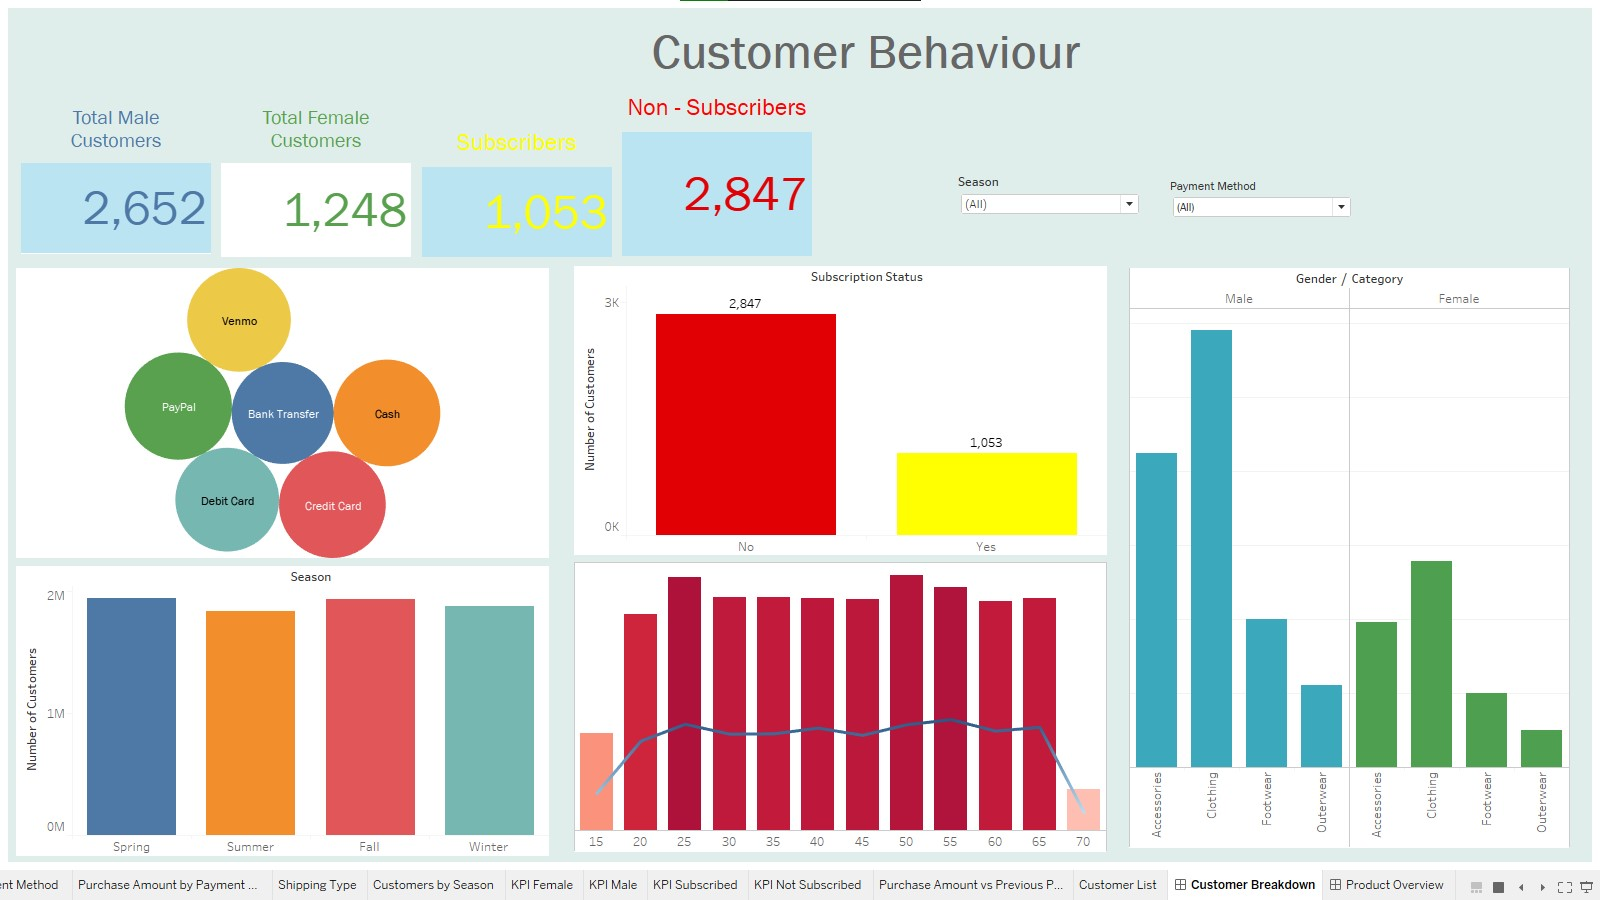

Layout of this report page (visuals, bound fields, positions):
{"tool":"tableau","page":{"name":"Customer Breakdown","canvas":[1000,1000],"units":"permille","ordinal":0},"visuals":[{"type":"text","box":[324,11.1,434.9,95.3]},{"type":"worksheet","title":"KPI Not Subscribed","mark":"Automatic","box":[388.8,102.2,118.8,192]},{"type":"worksheet","title":"KPI Male","mark":"Automatic","box":[13,117.4,118.8,178.2]},{"type":"worksheet","title":"KPI Female","mark":"Automatic","box":[138.2,117.4,118.8,178.2]},{"type":"worksheet","title":"KPI Subscribed","mark":"Automatic","box":[263.5,142.3,118.8,153.3]},{"type":"filter","title":"Customers by Season","param":"[federated.12ewj160rvrcry10kris80x3uvd5].[none:Season:nk]","box":[599,198.9,115.2,78.7]},{"type":"filter","title":"Customers by Payment Method","param":"[federated.12ewj160rvrcry10kris80x3uvd5].[none:Payment Method:nk]","box":[731.5,205.8,115.2,78.7]},{"type":"worksheet","title":"Subscription Status","mark":"Automatic","rows":["Customer ID"],"cols":["Subscription Status"],"box":[358.5,305.2,333.3,332.9]},{"type":"worksheet","title":"Customers by Payment Method","mark":"Circle","box":[10.1,308,333.3,332.9]},{"type":"worksheet","title":"Purchases by Category","mark":"Automatic","rows":["Customer ID"],"cols":["Gender","Category"],"box":[705.5,308,275.7,667.1]},{"type":"worksheet","title":"Purchasing Behaviour by Age","mark":"Automatic","rows":["Purchase Amount (USD)","Previous Purchases"],"cols":["Age (bin)"],"box":[358.5,646.4,333.3,332.9]},{"type":"worksheet","title":"Customers by Season","mark":"Automatic","rows":["Customer ID"],"cols":["Season"],"box":[10.1,650.6,333.3,332.9]}]}

Visuals, with their boxes on the dashboard's canvas, which has no fixed pixel size, in thousandths of its width and height (x1, y1, x2, y2). These are canvas units, not pixel positions in the 1600x900 screenshot, which may show the page scaled, cropped or inside an application window:
text: crop(324, 11, 759, 106)
"KPI Not Subscribed" worksheet: crop(389, 102, 508, 294)
"KPI Male" worksheet: crop(13, 117, 132, 296)
"KPI Female" worksheet: crop(138, 117, 257, 296)
"KPI Subscribed" worksheet: crop(264, 142, 382, 296)
"Customers by Season" filter: crop(599, 199, 714, 278)
"Customers by Payment Method" filter: crop(732, 206, 847, 284)
"Subscription Status" worksheet: crop(358, 305, 692, 638)
"Customers by Payment Method" worksheet (Circle marks): crop(10, 308, 343, 641)
"Purchases by Category" worksheet: crop(706, 308, 981, 975)
"Purchasing Behaviour by Age" worksheet: crop(358, 646, 692, 979)
"Customers by Season" worksheet: crop(10, 651, 343, 984)
